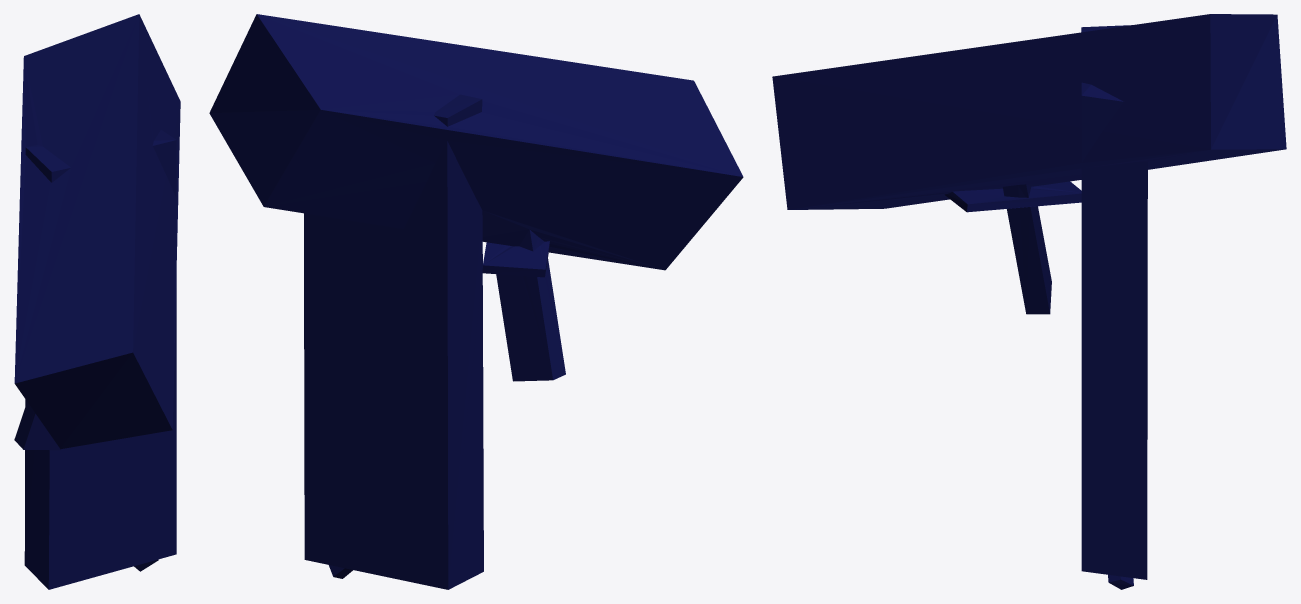
3 renders of one model, left to right at view 1: azimuth 30°, elevation 25°; view 2: azimuth 150°, elevation 25°; view 3: azimuth 270°, elevation 25°, orthographic. The views are drawn at different scales.
Parts seen in each view (by area): view 1: 074_Cube.302; view 2: 074_Cube.302; view 3: 074_Cube.302.
Boxes of the visible parts, box(x1,y1,x2,y2) form: 074_Cube.302: box(14, 14, 180, 589); 074_Cube.302: box(209, 14, 743, 589); 074_Cube.302: box(772, 14, 1286, 589).
Bounding box in the file's own units: 9.79 × 15.22 × 11.88.
